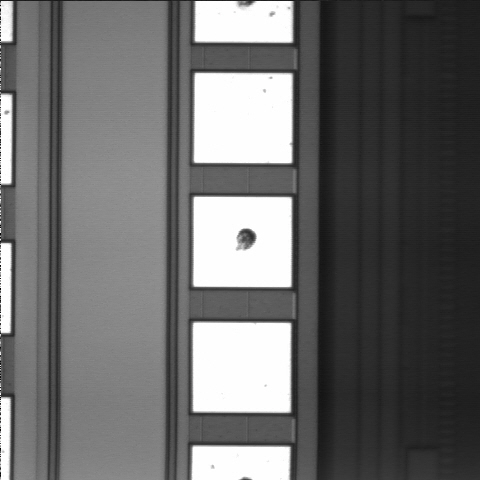pad: (193, 197, 292, 287), (194, 73, 292, 163), (193, 323, 291, 413)
